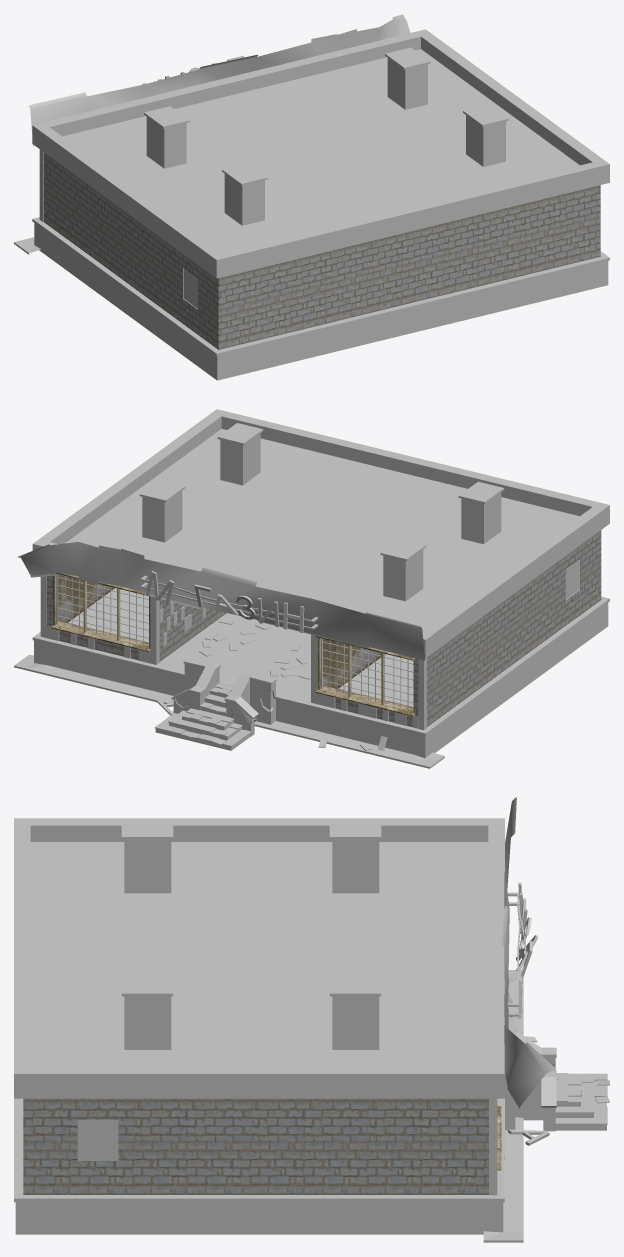
File: Build01.FBX
The picture shows the model from 3 angles, top to bottom: view 1: azimuth 30°, elevation 25°; view 2: azimuth 150°, elevation 25°; view 3: azimuth 270°, elevation 25°; orthographic projection. The views are drawn at different scales.
Parts seen in each view (by area): view 1: Krisha, Wall, Fundament, Metall_List; view 2: Krisha, Fundament, Wall, Metall_List, Krilzho, Windows, Plitka_decal, Wall_interior, Magazin, PlitkaFasad; view 3: Krisha, Wall, Fundament, Krilzho, Metall_List, Magazin, PlitkaFasad.
Part boxes in pixels (x1=…): Krisha: x1=32, y1=29, x2=609, y2=278; Wall: x1=43, y1=152, x2=600, y2=349; Fundament: x1=32, y1=217, x2=609, y2=380; Metall_List: x1=29, y1=14, x2=410, y2=145; Krisha: x1=32, y1=409, x2=609, y2=658; Fundament: x1=32, y1=588, x2=609, y2=758; Wall: x1=47, y1=530, x2=601, y2=726; Metall_List: x1=17, y1=542, x2=424, y2=660; Krilzho: x1=14, y1=654, x2=444, y2=768; Windows: x1=51, y1=573, x2=415, y2=716; Plitka_decal: x1=46, y1=602, x2=418, y2=750; Wall_interior: x1=58, y1=574, x2=385, y2=688; Magazin: x1=140, y1=571, x2=318, y2=715; PlitkaFasad: x1=40, y1=576, x2=426, y2=730; Krisha: x1=14, y1=818, x2=504, y2=1098; Wall: x1=23, y1=1098, x2=488, y2=1194; Fundament: x1=14, y1=1097, x2=504, y2=1234; Krilzho: x1=483, y1=970, x2=609, y2=1242; Metall_List: x1=501, y1=797, x2=555, y2=1108; Magazin: x1=507, y1=882, x2=549, y2=1145; PlitkaFasad: x1=489, y1=1098, x2=497, y2=1195.
Bounding box in the file's own units: 1978 × 1843 × 693.
